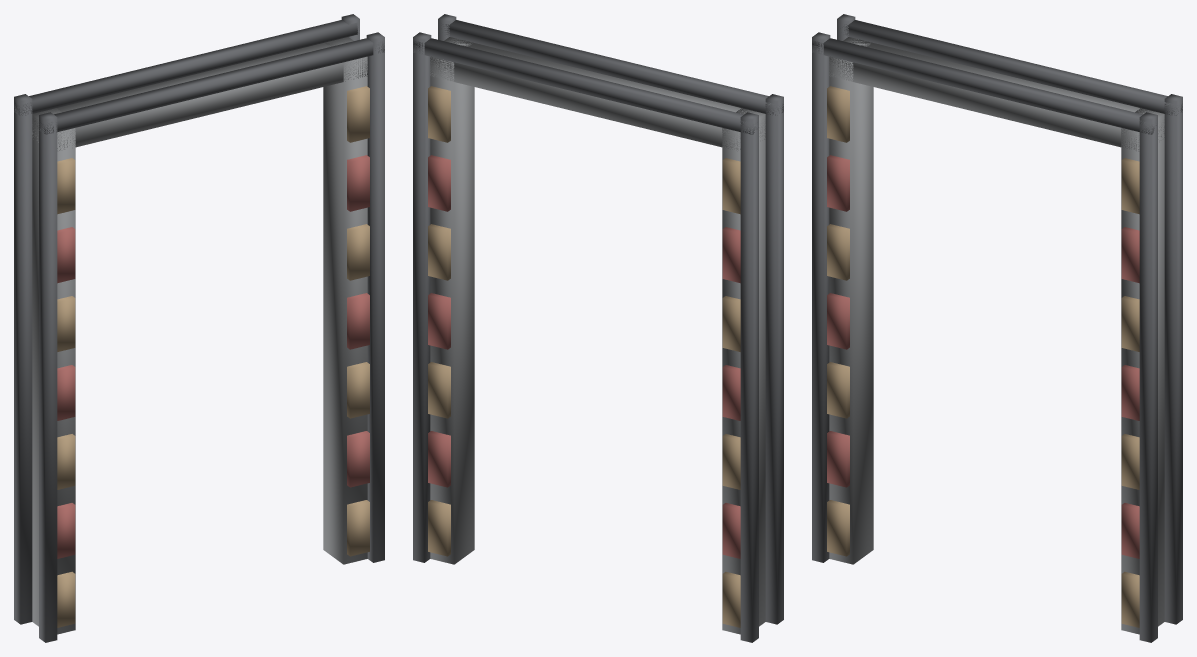
File: doorway_brick_return_w122_h210_d16.glb
3 views of the same model, side by side, from view 1: azimuth 30°, elevation 25°; view 2: azimuth 150°, elevation 25°; view 3: azimuth 330°, elevation 25° (orthographic).
Parts seen in each view (by area): view 1: world; view 2: world; view 3: world.
Boxes of the visible parts, box(x1,y1,x2,y2) form: world: box(14, 14, 384, 642); world: box(413, 14, 783, 642); world: box(812, 14, 1182, 642).
Size of the model in its own units: 1.55 by 2.28 by 0.2496.
